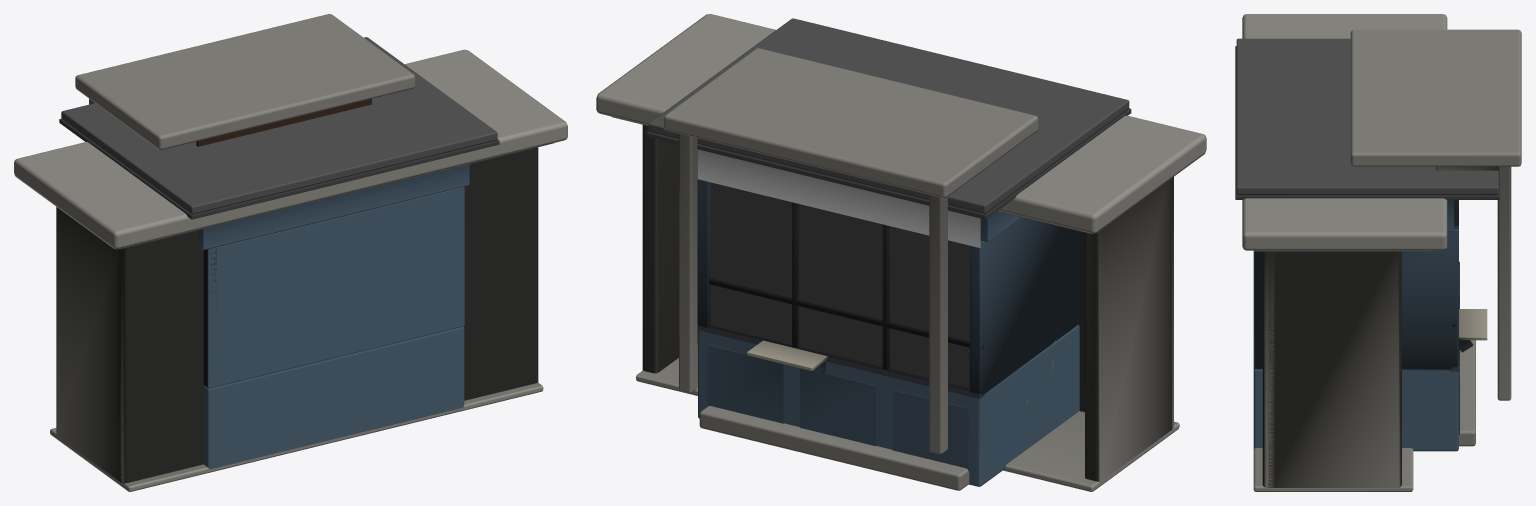
File: street.glb
3 views of the same model, side by side, from view 1: azimuth 30°, elevation 25°; view 2: azimuth 150°, elevation 25°; view 3: azimuth 270°, elevation 25° (orthographic). The views are drawn at different scales.
Parts seen in each view (by area): view 1: kiosk, bus_stop, entrance; view 2: kiosk, bus_stop, entrance; view 3: bus_stop, kiosk, entrance.
Boxes of the visible parts, x1=… form: kiosk: x1=59, y1=37, x2=499, y2=469; bus_stop: x1=14, y1=49, x2=567, y2=491; entrance: x1=75, y1=14, x2=415, y2=149; kiosk: x1=646, y1=18, x2=1131, y2=486; bus_stop: x1=596, y1=14, x2=1206, y2=491; entrance: x1=664, y1=48, x2=1038, y2=490; bus_stop: x1=1242, y1=14, x2=1447, y2=491; kiosk: x1=1235, y1=38, x2=1499, y2=451; entrance: x1=1350, y1=29, x2=1521, y2=446.
Bounding box in the file's own units: 4.6 × 2.91 × 2.51.
